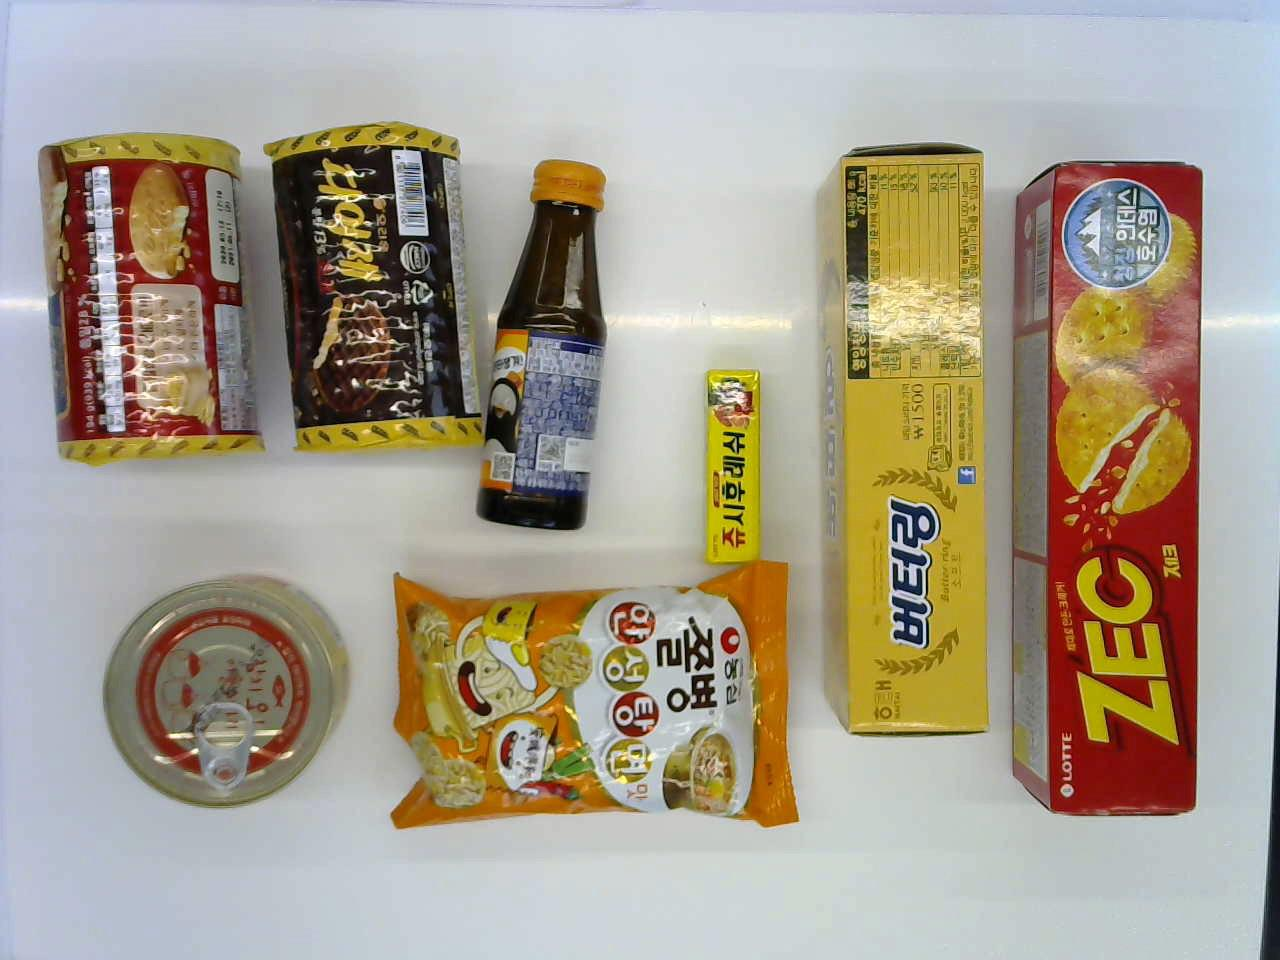buttering: (815, 130, 998, 752)
diget_choco: (253, 113, 488, 467)
diget_ori: (24, 123, 259, 477)
jjolbyung_noodle: (394, 559, 803, 857)
juicyfresh: (694, 358, 768, 566)
tuna: (109, 569, 341, 813)
vita500: (483, 150, 638, 545)
zec: (1013, 154, 1221, 821)
